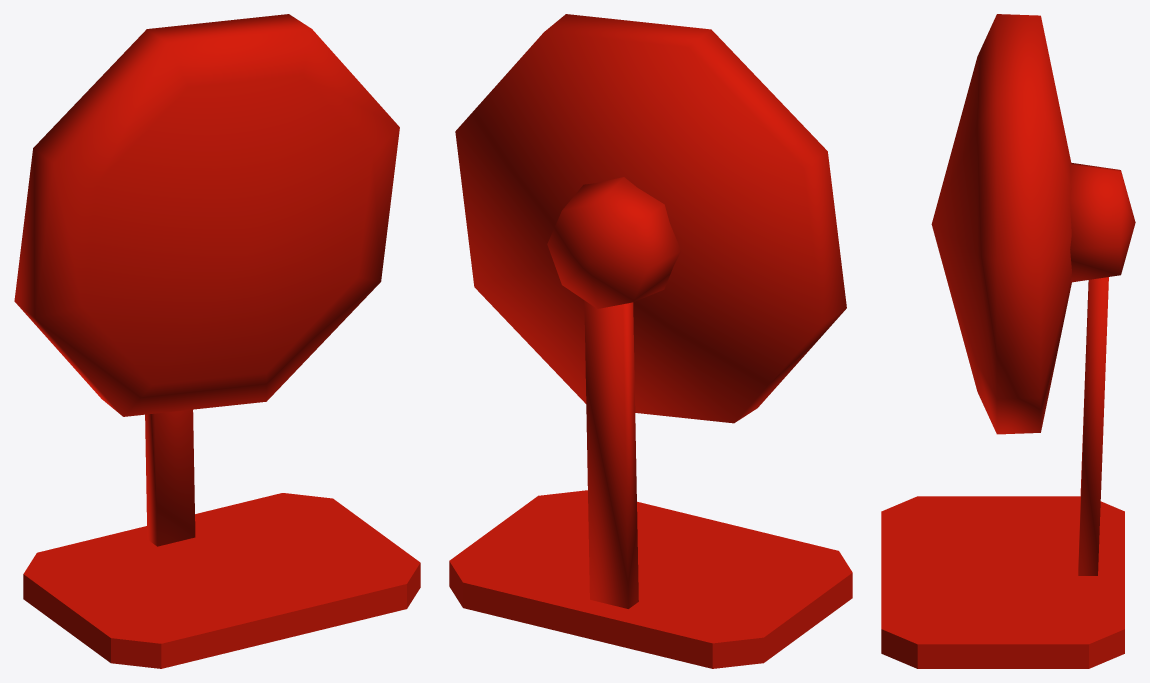
File: UCX_fan_small.fbx
The picture shows the model from 3 angles, left to right: view 1: azimuth 30°, elevation 25°; view 2: azimuth 150°, elevation 25°; view 3: azimuth 270°, elevation 25°; orthographic projection. The views are drawn at different scales.
Visible parts, largest first — view 1: UCX_fan_small; view 2: UCX_fan_small; view 3: UCX_fan_small.
Boxes of the visible parts, x1,y1,x2,y2 form: UCX_fan_small: (14,14,420,668); UCX_fan_small: (449,14,852,668); UCX_fan_small: (881,14,1135,668).
Bounding box in the file's own units: 0.4332 × 0.6422 × 0.2671.
